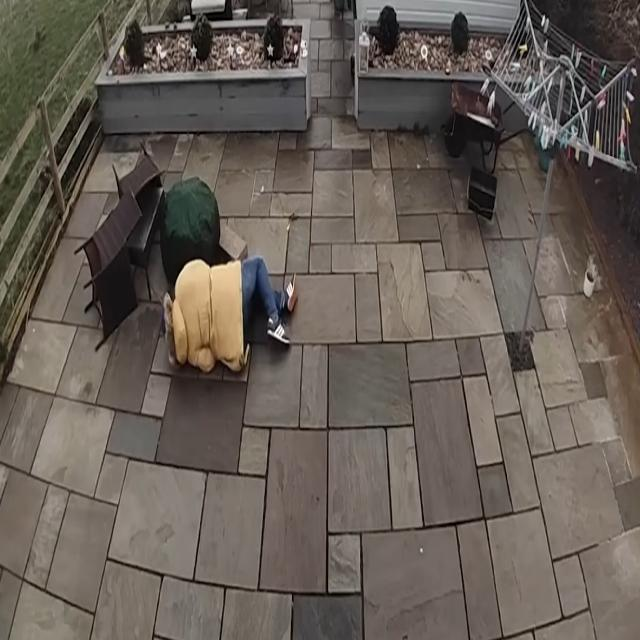fallen: (163, 255, 297, 372)
